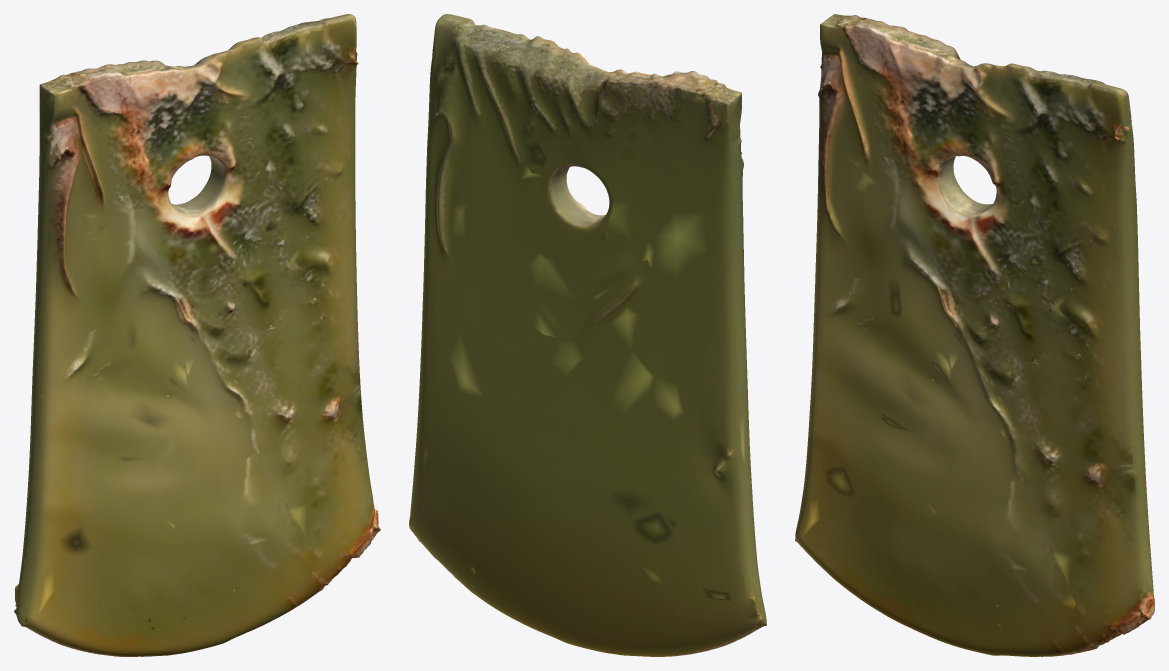
The model's file is jade-yue-detail.glb.
3 views of the same model, side by side, from view 1: azimuth 30°, elevation 25°; view 2: azimuth 150°, elevation 25°; view 3: azimuth 330°, elevation 25° (orthographic).
Visible parts, largest first — view 1: node_0; view 2: node_0; view 3: node_0.
Part boxes in pixels (left/top/right/bottom): node_0: left=14, top=14, right=380, bottom=656; node_0: left=409, top=14, right=766, bottom=656; node_0: left=795, top=14, right=1154, bottom=656.
Size of the model in its own units: 0.6693 by 1.07 by 0.085.
Materials: 1 (1 with a texture image).
